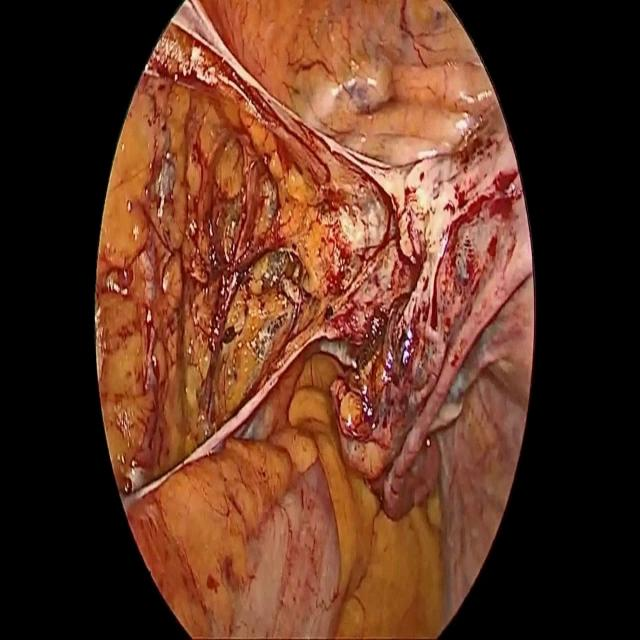surgical-area: (94, 0, 534, 639)
